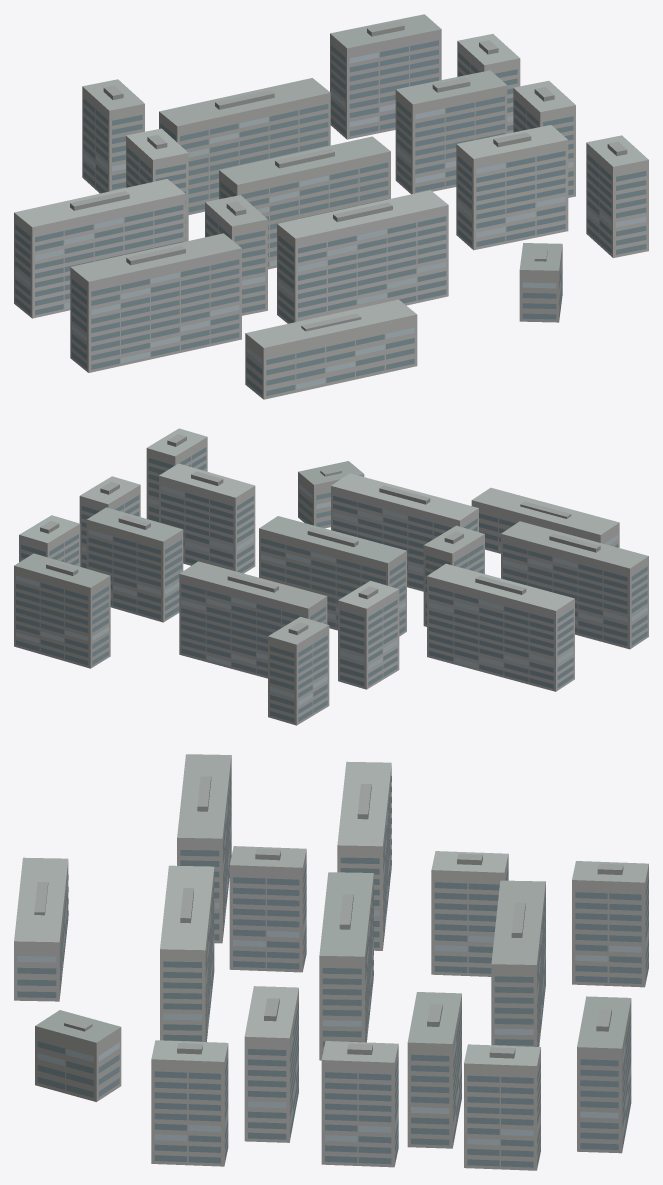
File: apt-a13610005.glb
3 views of the same model, one above another, from view 1: azimuth 30°, elevation 25°; view 2: azimuth 150°, elevation 25°; view 3: azimuth 270°, elevation 25° (orthographic). The views are drawn at different scales.
Parts seen in each view (by area): view 1: apt-a13610005; view 2: apt-a13610005; view 3: apt-a13610005.
Part boxes in pixels (x1,y1,x2,y2): apt-a13610005: (14,14,648,399); apt-a13610005: (14,428,648,725); apt-a13610005: (14,754,648,1170).
Bounding box in the file's own units: 183 × 30 × 158.
